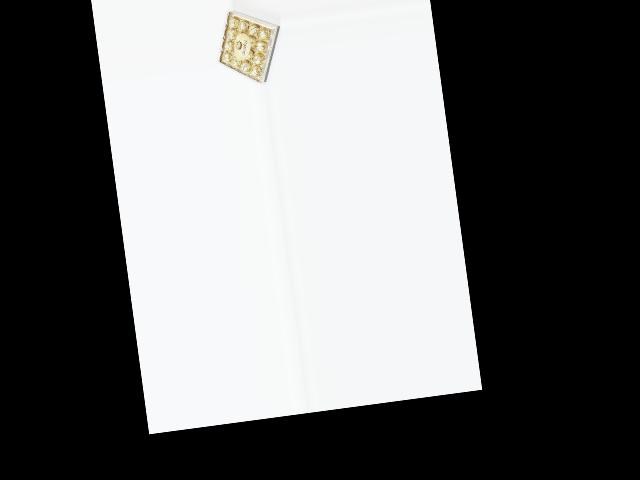chocolate: (210, 3, 288, 90)
